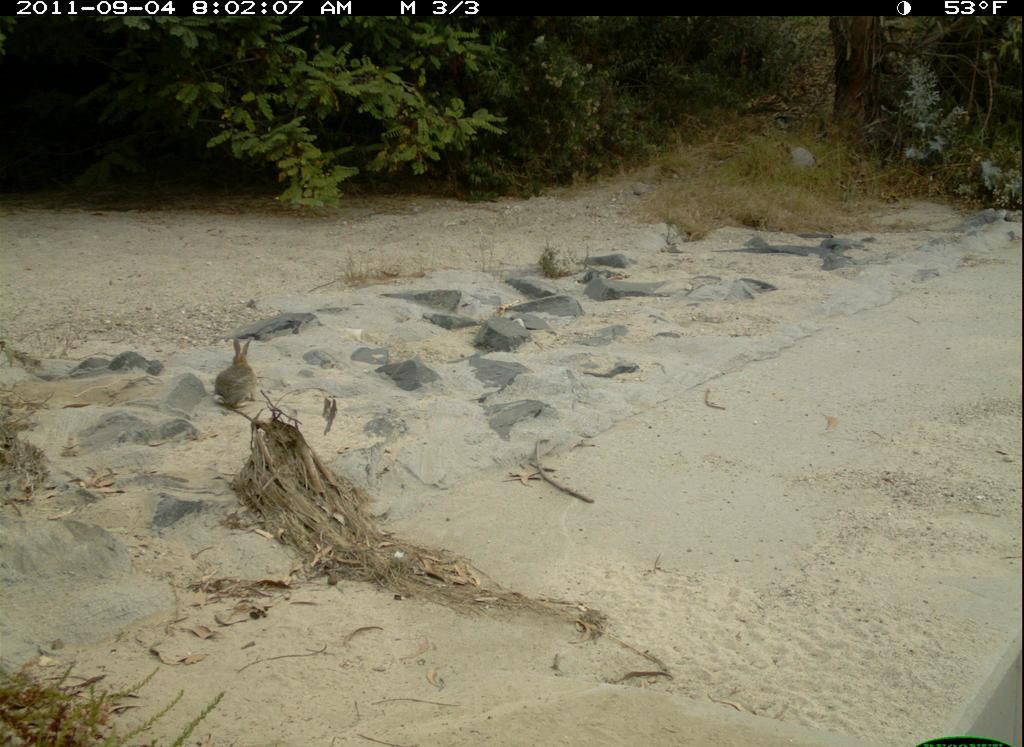rabbit: (210, 336, 276, 414)
